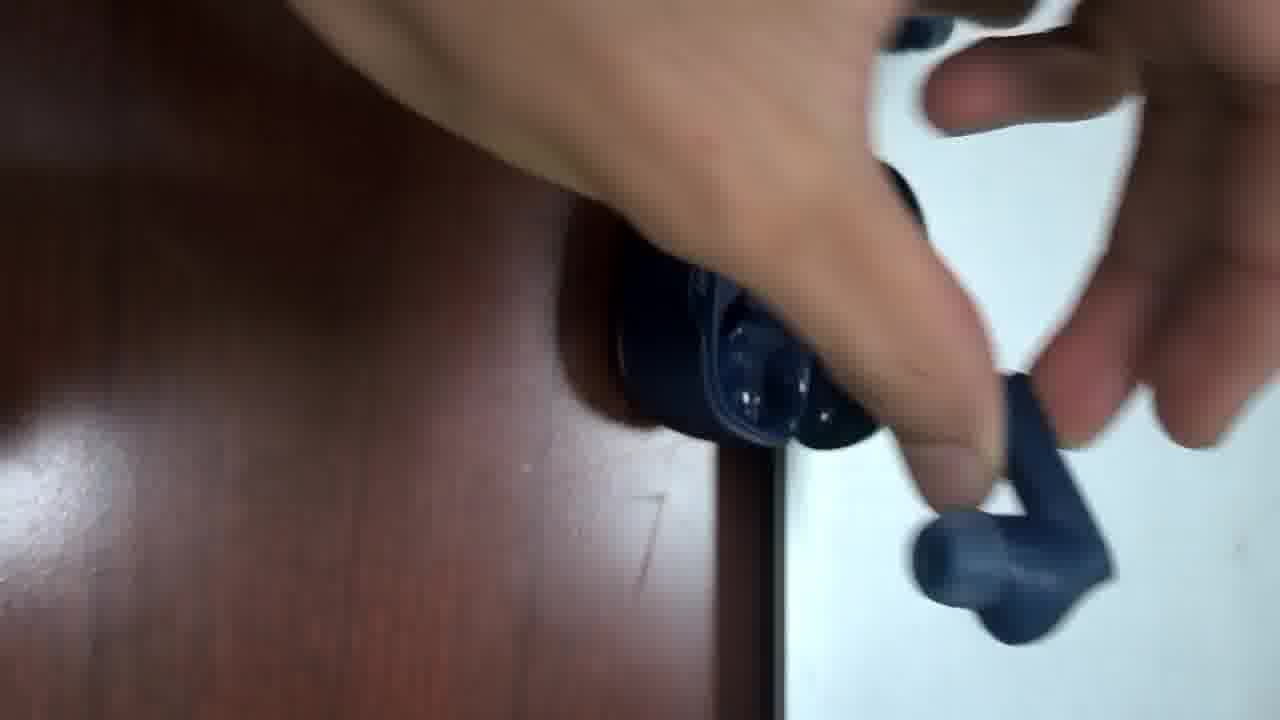Earbud: (912, 373, 1111, 643), (885, 15, 954, 52)
